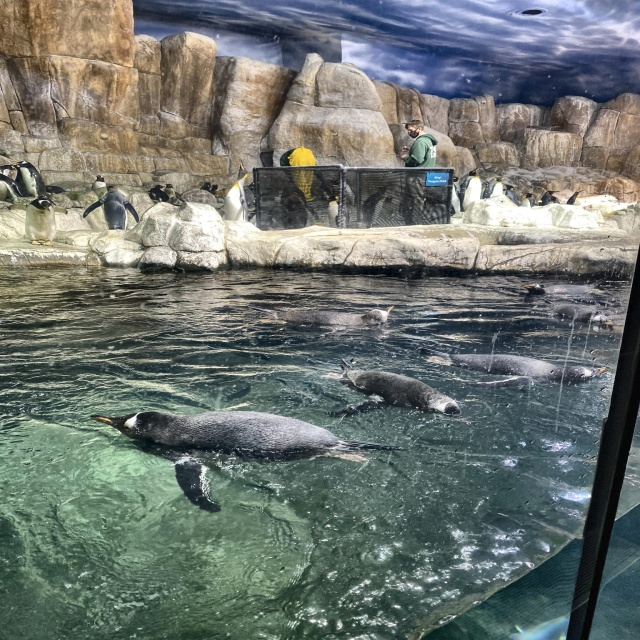penguin: (88, 409, 404, 507), (420, 344, 607, 395), (333, 361, 468, 427), (273, 300, 398, 335), (97, 185, 138, 232), (524, 283, 611, 304), (557, 306, 614, 335), (229, 161, 252, 225), (367, 181, 396, 225), (323, 187, 352, 229), (17, 159, 46, 199), (459, 166, 485, 208), (146, 184, 175, 207), (0, 177, 18, 204), (91, 172, 110, 196), (487, 174, 503, 202), (1, 158, 19, 182), (522, 191, 540, 210), (505, 181, 518, 203), (568, 190, 583, 207), (541, 190, 556, 207)
